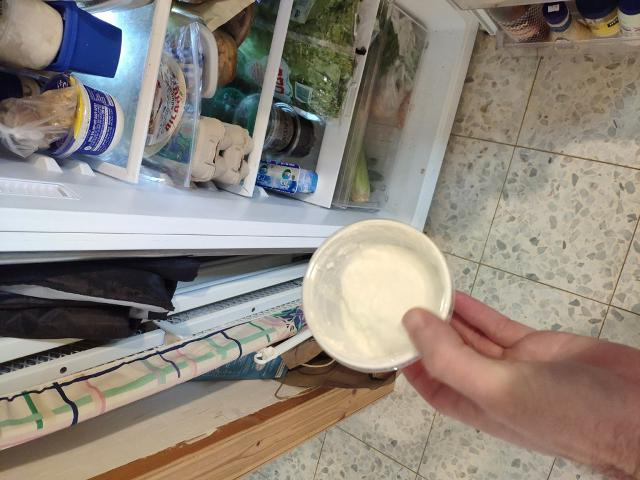cotage: (291, 216, 445, 374)
